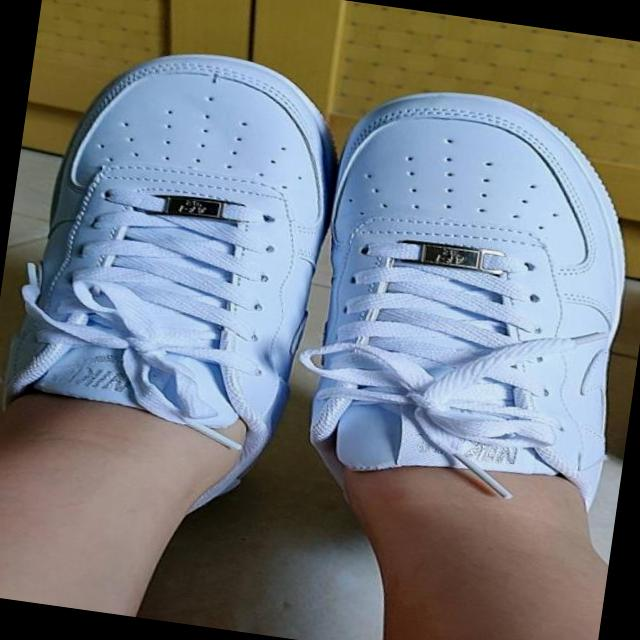nike_fake_airforce: (0, 31, 348, 489), (286, 73, 640, 520)
